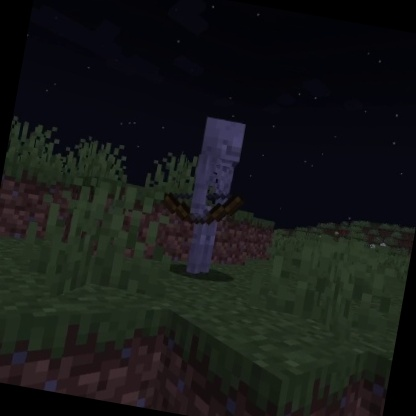skeleton: (148, 106, 263, 285)
